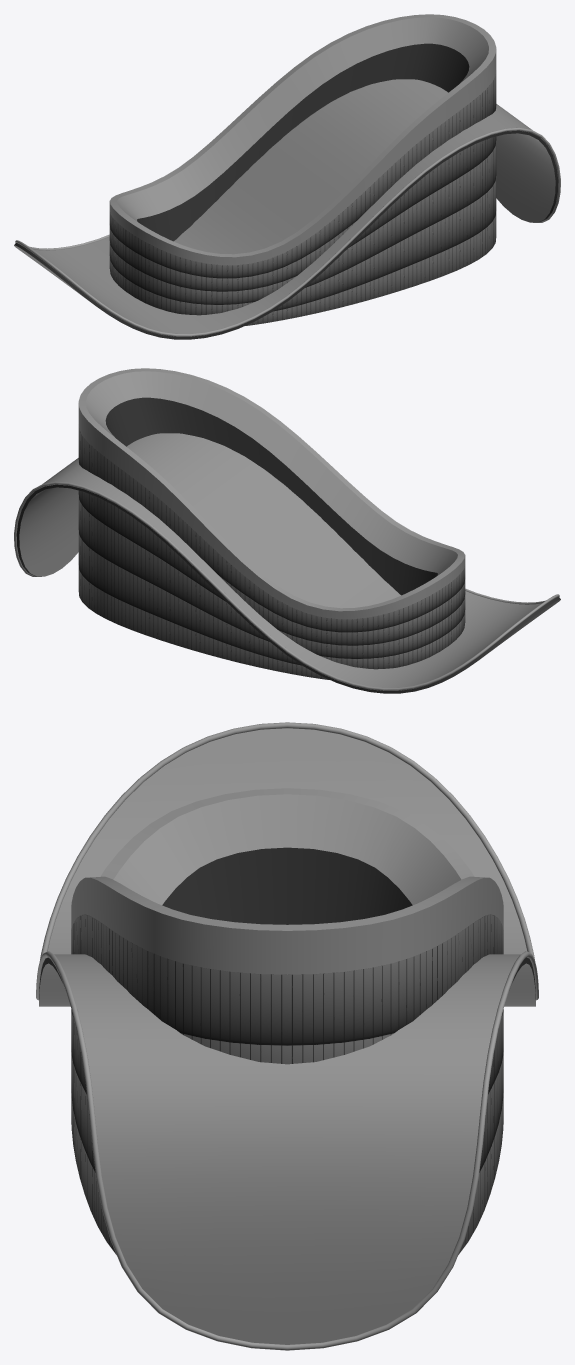
Rendered from build9.gltf.
3 views of the same model, one above another, from view 1: azimuth 30°, elevation 25°; view 2: azimuth 150°, elevation 25°; view 3: azimuth 270°, elevation 25° (orthographic). The views are drawn at different scales.
Visible parts, largest first — view 1: Object_389; view 2: Object_389; view 3: Object_389.
Part boxes in pixels (x1,y1,x2,y2): Object_389: (14,14,560,339); Object_389: (14,368,560,693); Object_389: (36,722,538,1350).
Bounding box in the file's own units: 19.65 × 7.5 × 8.83.
Materials: 4 (2 with a texture image).
